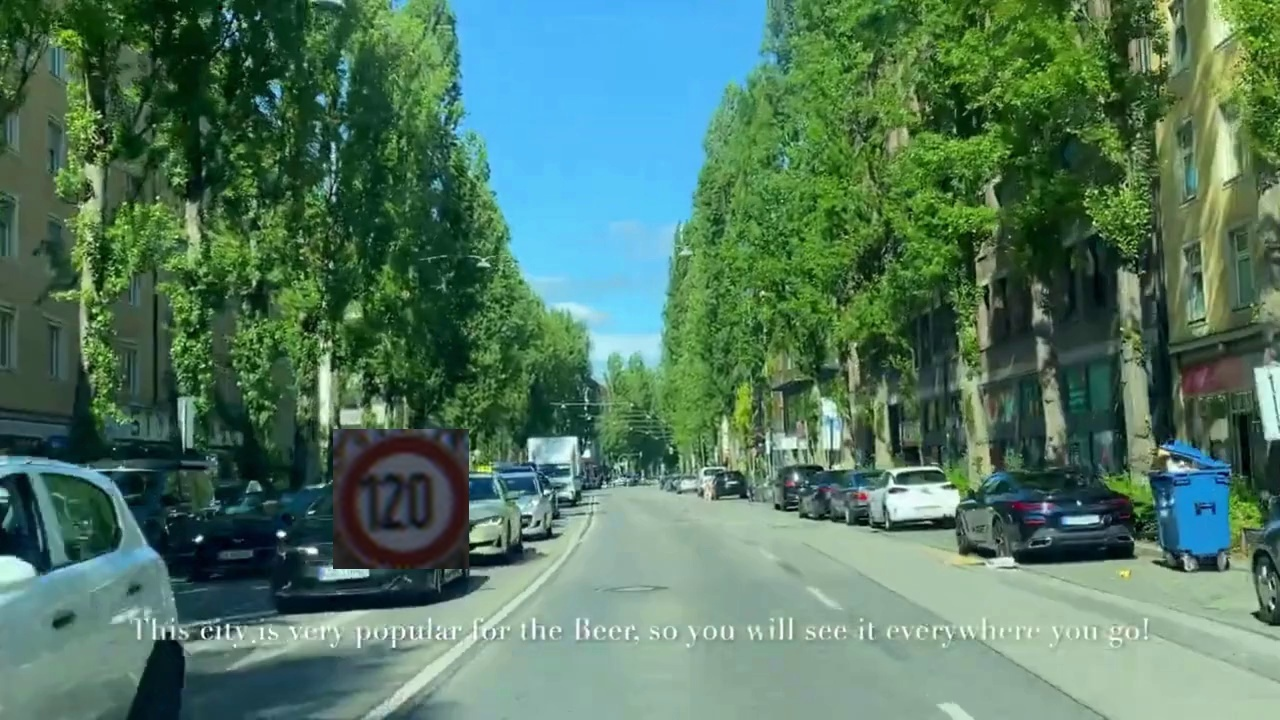Speed 120: (333, 429, 469, 569)
